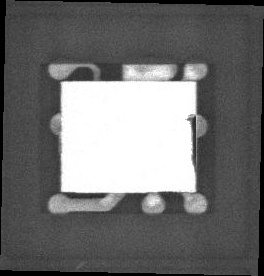DIE_BROKEN: (185, 112, 197, 173)
